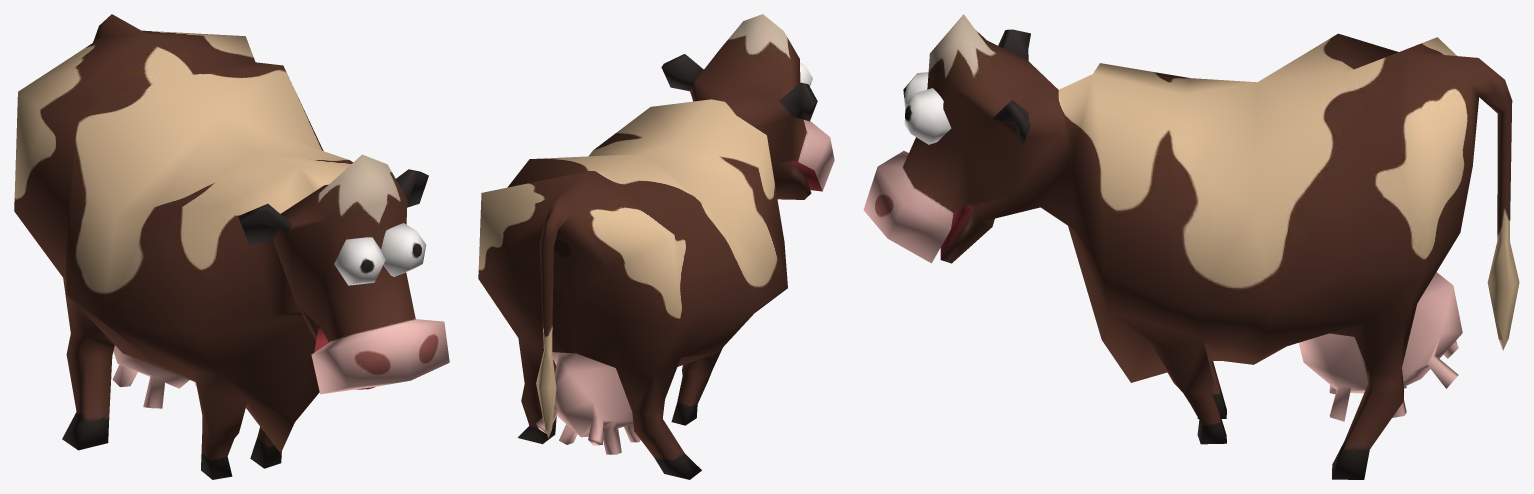
File: farm_cow.glb
3 renders of one model, left to right at view 1: azimuth 30°, elevation 25°; view 2: azimuth 150°, elevation 25°; view 3: azimuth 270°, elevation 25°, orthographic. The views are drawn at different scales.
Visible parts, largest first — view 1: farm:cow; view 2: farm:cow; view 3: farm:cow.
Boxes of the visible parts, x1,y1,x2,y2 form: farm:cow: [14, 14, 449, 479]; farm:cow: [478, 14, 834, 479]; farm:cow: [863, 14, 1519, 479].
Bounding box in the file's own units: 1.45 × 1.92 × 2.76.
1 material, 1 textured.
